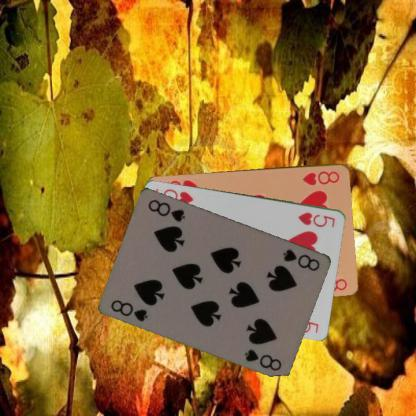5h: (296, 209, 337, 228)
8h: (300, 168, 341, 186)
8s: (108, 297, 150, 324), (280, 246, 321, 272)
